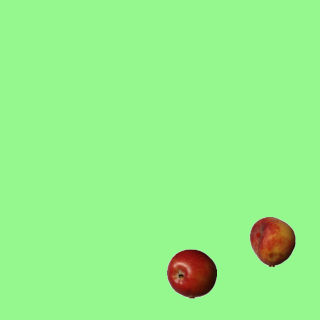Apple Braeburn: (166, 248, 216, 298)
Peach: (247, 216, 297, 266)
